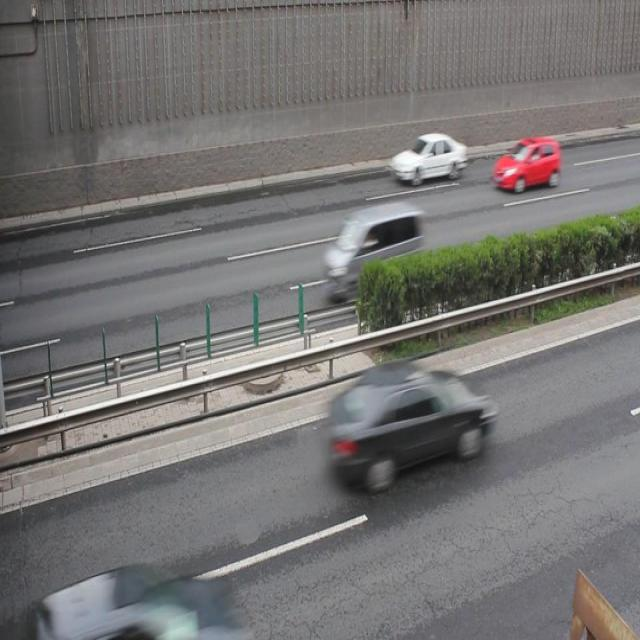car: (330, 364, 495, 486), (34, 558, 252, 640), (388, 130, 466, 185), (490, 136, 559, 191)
truck: (322, 201, 423, 297)
